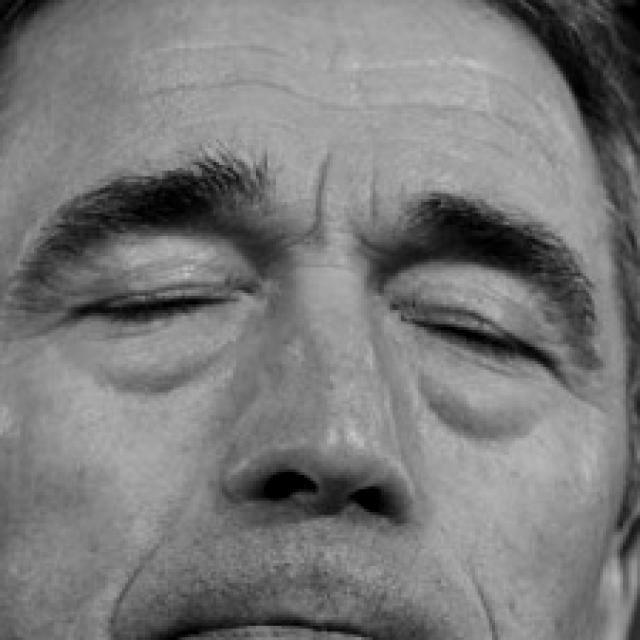real: (0, 0, 633, 640), (30, 228, 581, 390)
